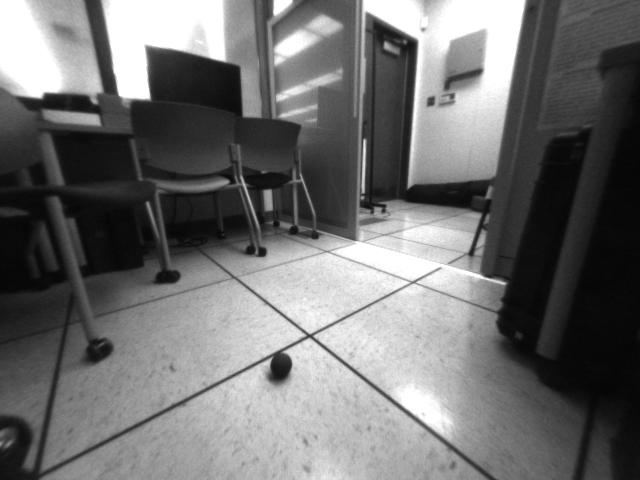dogtoy: (263, 344, 302, 385)
